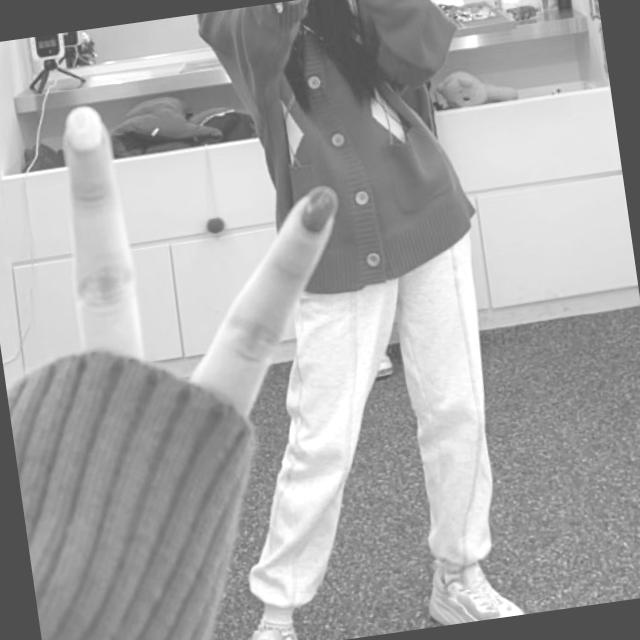cardigan: (197, 0, 495, 310)
trainingpants: (198, 207, 520, 614)
